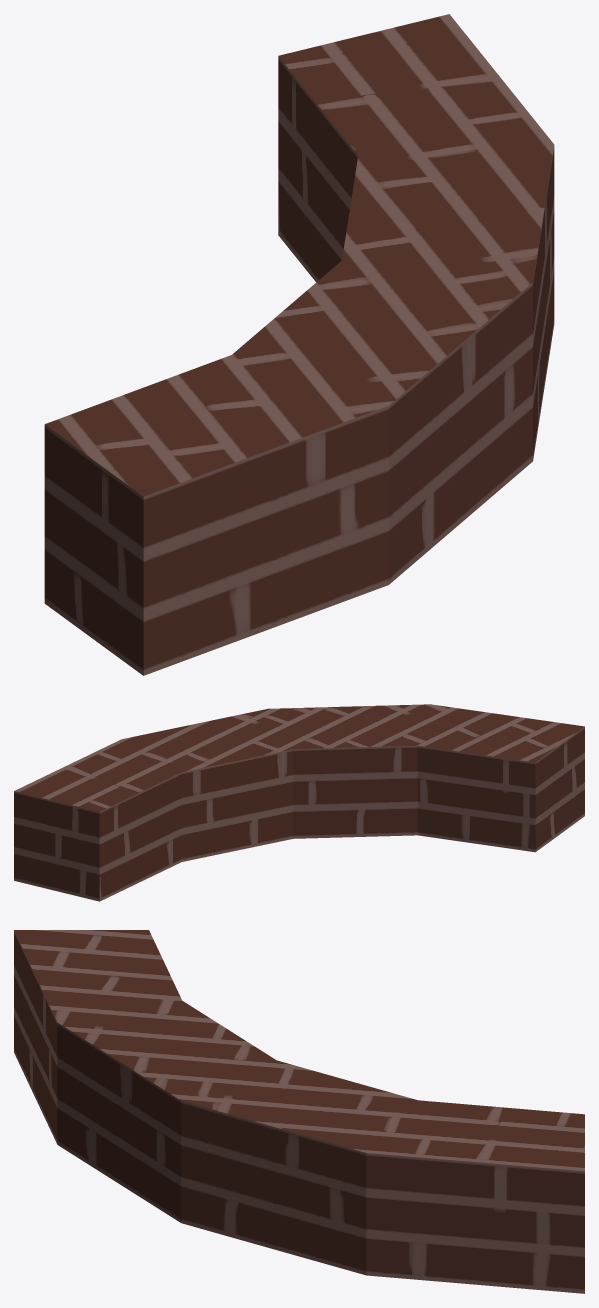
File: cornice3.FBX
The picture shows the model from 3 angles, top to bottom: view 1: azimuth 30°, elevation 25°; view 2: azimuth 150°, elevation 25°; view 3: azimuth 270°, elevation 25°; orthographic projection. The views are drawn at different scales.
Visible parts, largest first — view 1: cornice3; view 2: cornice3; view 3: cornice3.
Boxes of the visible parts, bbox=[...] form: cornice3: bbox=[44, 14, 554, 675]; cornice3: bbox=[14, 704, 584, 901]; cornice3: bbox=[14, 930, 584, 1293].
Size of the model in its own units: 262 by 62 by 262.
1 material, 1 textured.
